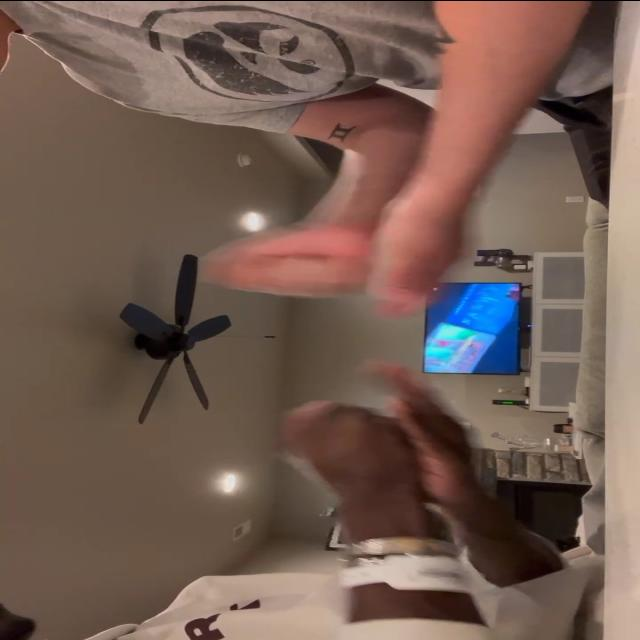Rock: (198, 224, 382, 298), (274, 398, 423, 483)
